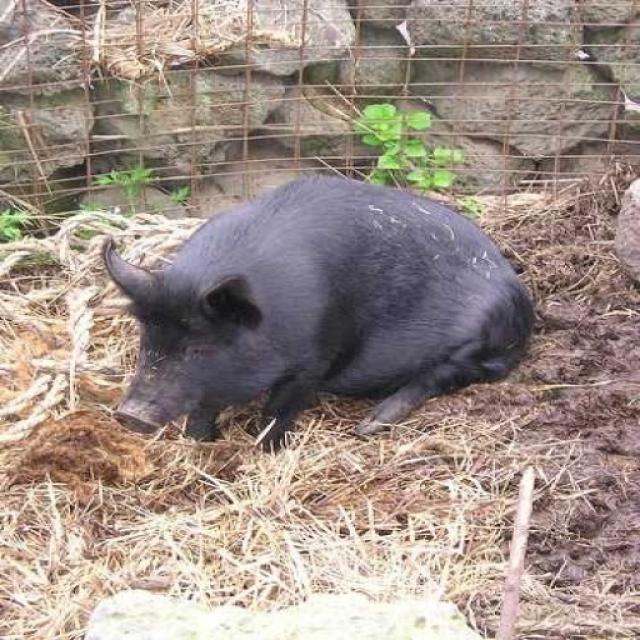pig: (65, 157, 542, 453)
